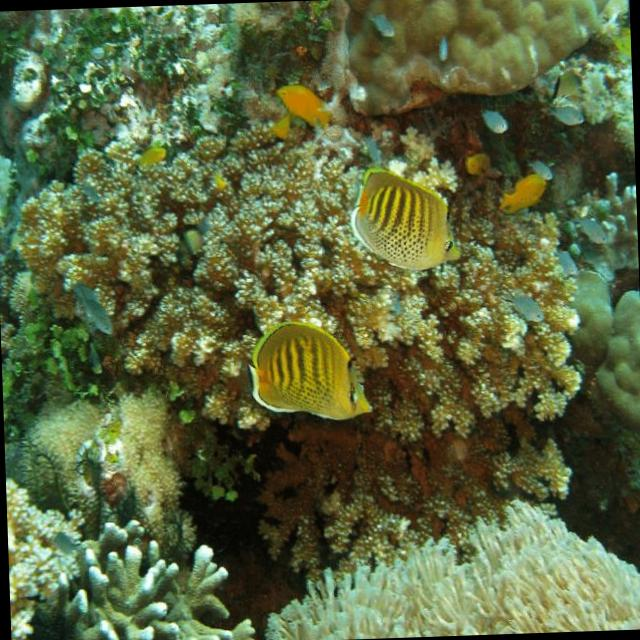ButterflyFish: (234, 298, 378, 437), (324, 145, 476, 276)
